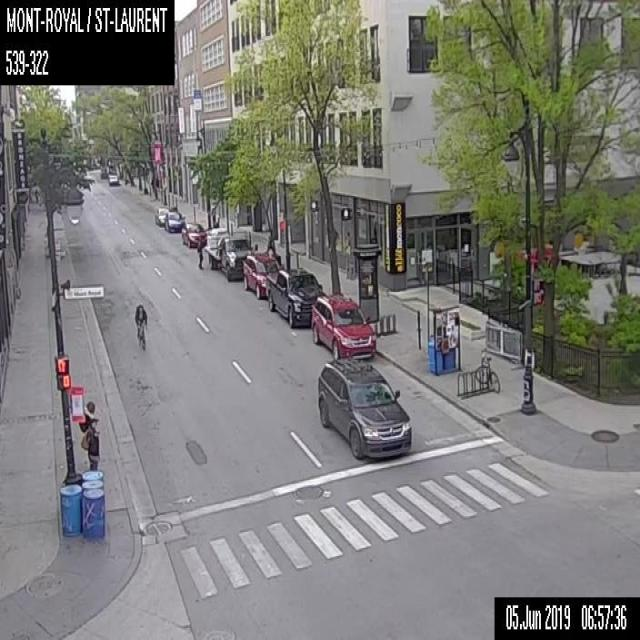cyclist: (134, 303, 148, 352)
pedestrian: (78, 400, 98, 469), (196, 238, 203, 270)
vehicle: (318, 357, 412, 459), (312, 291, 377, 357), (265, 264, 319, 328), (204, 230, 249, 281), (242, 249, 280, 298), (182, 222, 207, 248), (165, 212, 185, 233), (154, 205, 167, 226), (108, 172, 119, 186)
